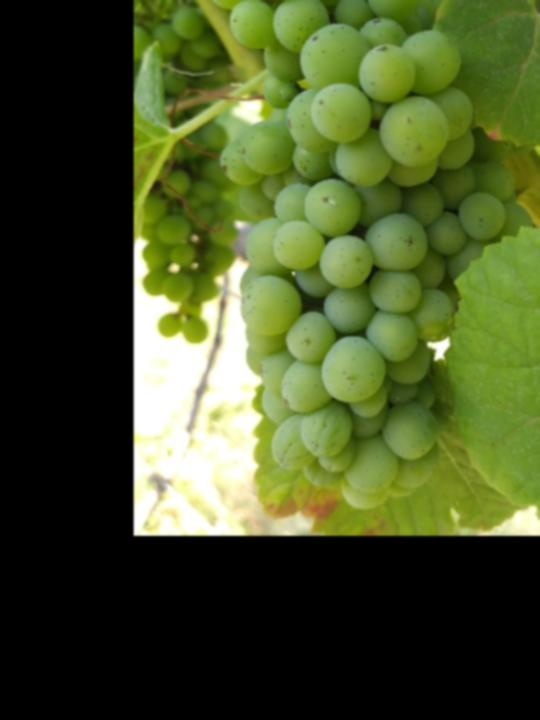grape: (204, 0, 533, 516)
